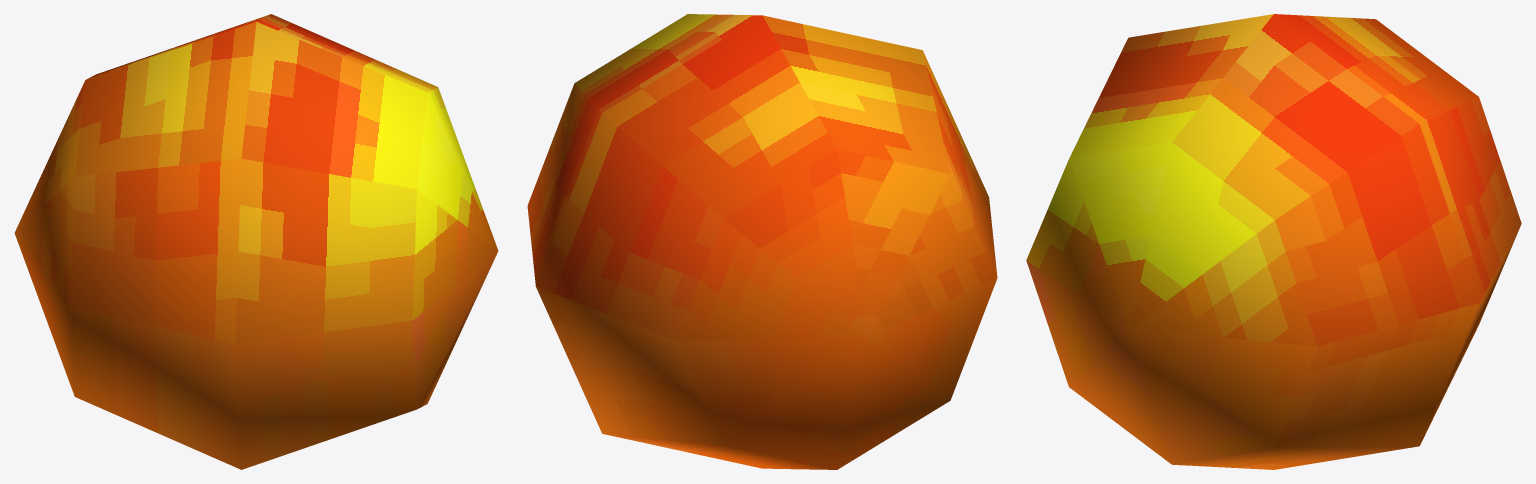
3 views of the same model, side by side, from view 1: azimuth 30°, elevation 25°; view 2: azimuth 150°, elevation 25°; view 3: azimuth 270°, elevation 25° (orthographic). The views are drawn at different scales.
Visible parts, largest first — view 1: Sphere_8; view 2: Sphere_8; view 3: Sphere_8.
Part boxes in pixels (x1,y1,x2,y2): Sphere_8: [14, 14, 498, 469]; Sphere_8: [527, 14, 997, 469]; Sphere_8: [1026, 14, 1521, 469].
Bounding box in the file's own units: 1.06 × 1.07 × 1.06.
